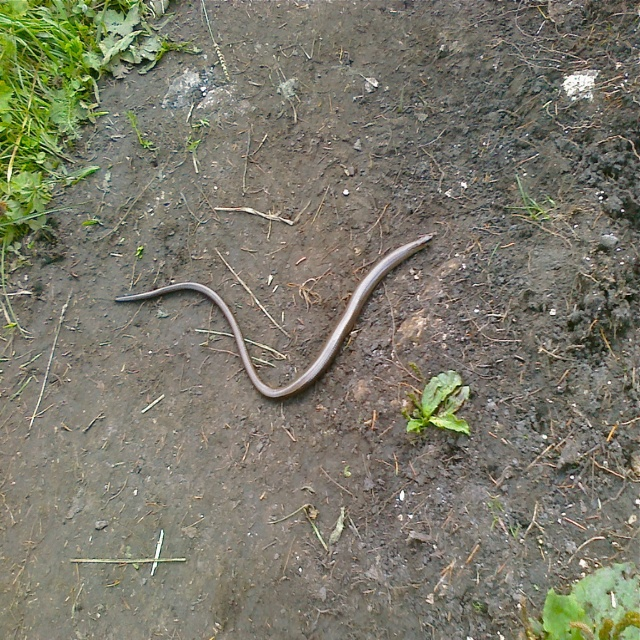Snake: (116, 234, 434, 398)
